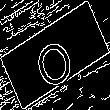O_NW: (30, 22, 80, 88)
